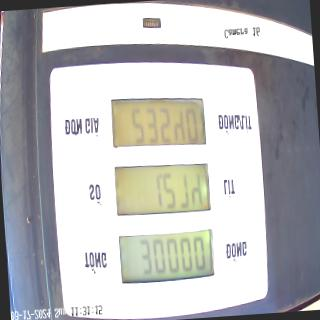screen: (105, 86, 218, 290)
